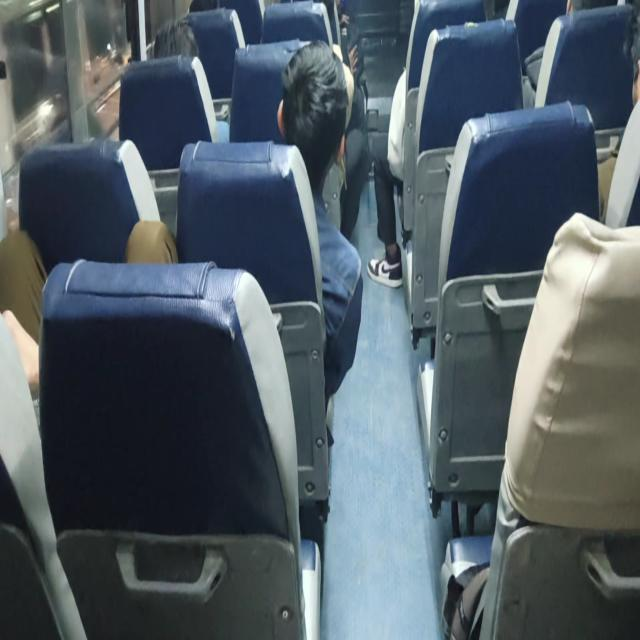person: (276, 39, 364, 443), (366, 0, 486, 288), (597, 1, 639, 227)
